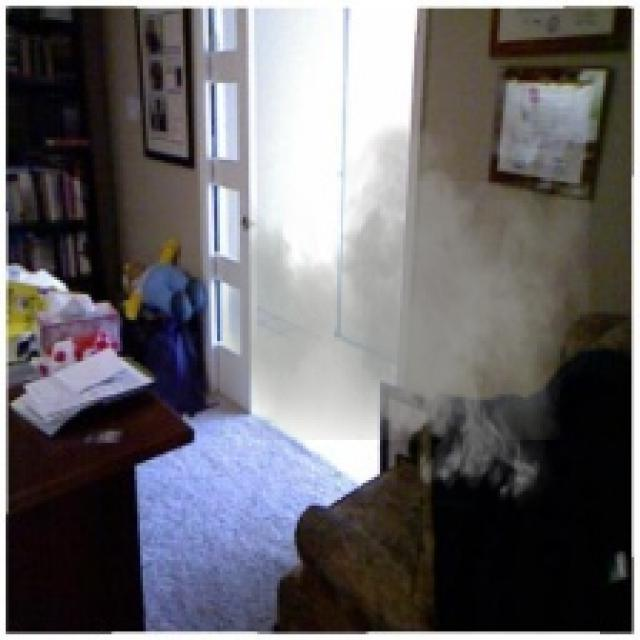Smoke: (208, 109, 592, 512)
